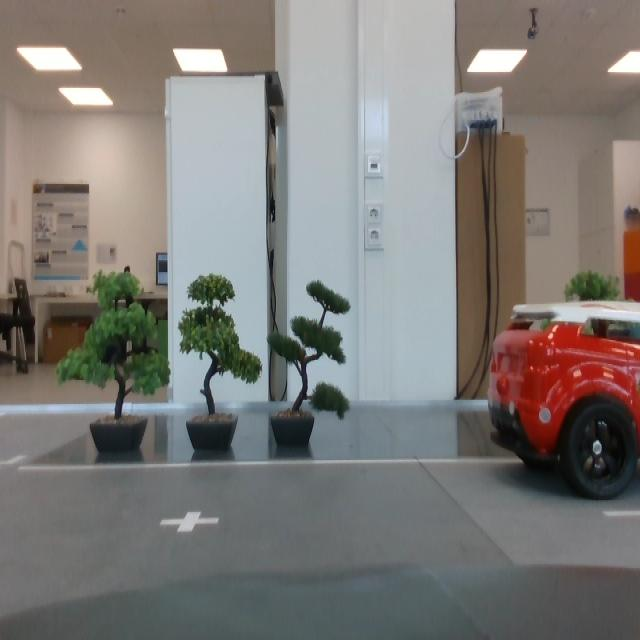car: (487, 300, 640, 501)
potted plant: (58, 272, 172, 453), (178, 275, 263, 454), (267, 280, 352, 446), (563, 271, 624, 418)
